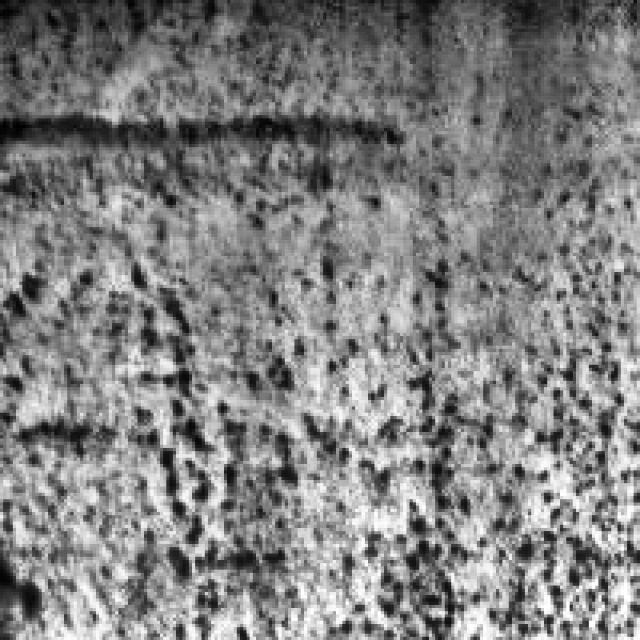Rolled_in_Scale: (9, 19, 636, 634)
